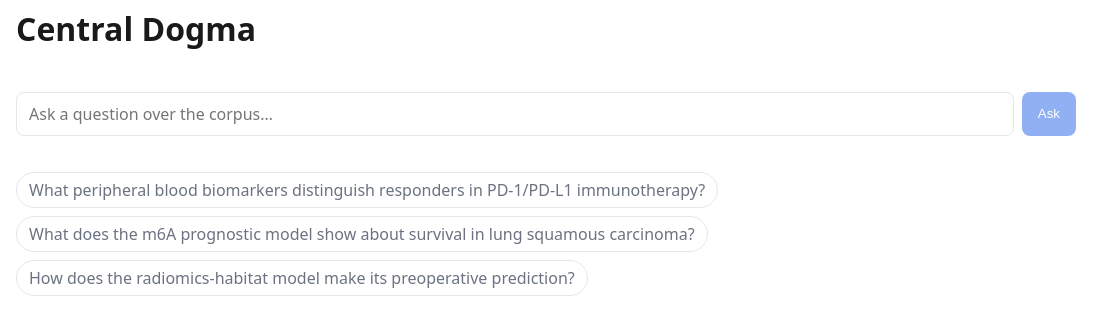
it: Page › shows an error banner when the client throws
In the field labelled "question": point(515, 114) [16, 92, 1014, 136], type "what does the figure show about dose"
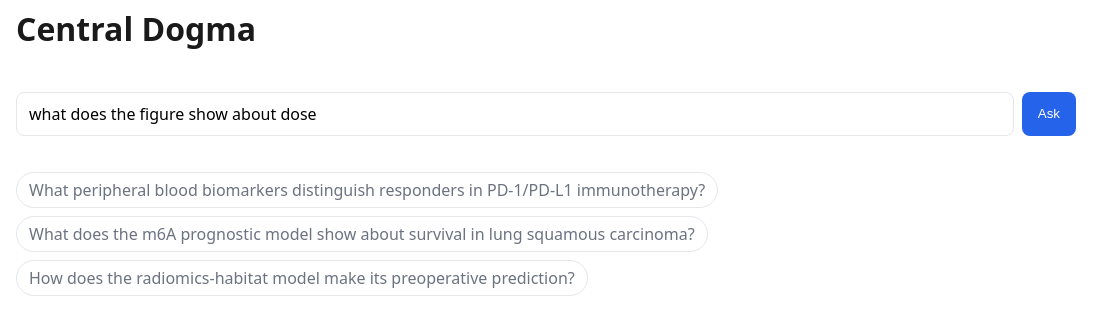
Click the button "Ask": point(1049, 114) [1022, 92, 1076, 136]
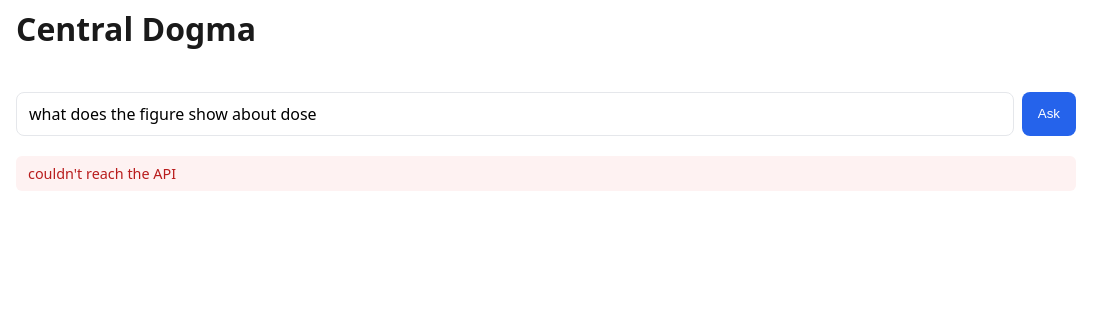
Now the message reads "couldn't reach the API", box [28, 164, 176, 183]
